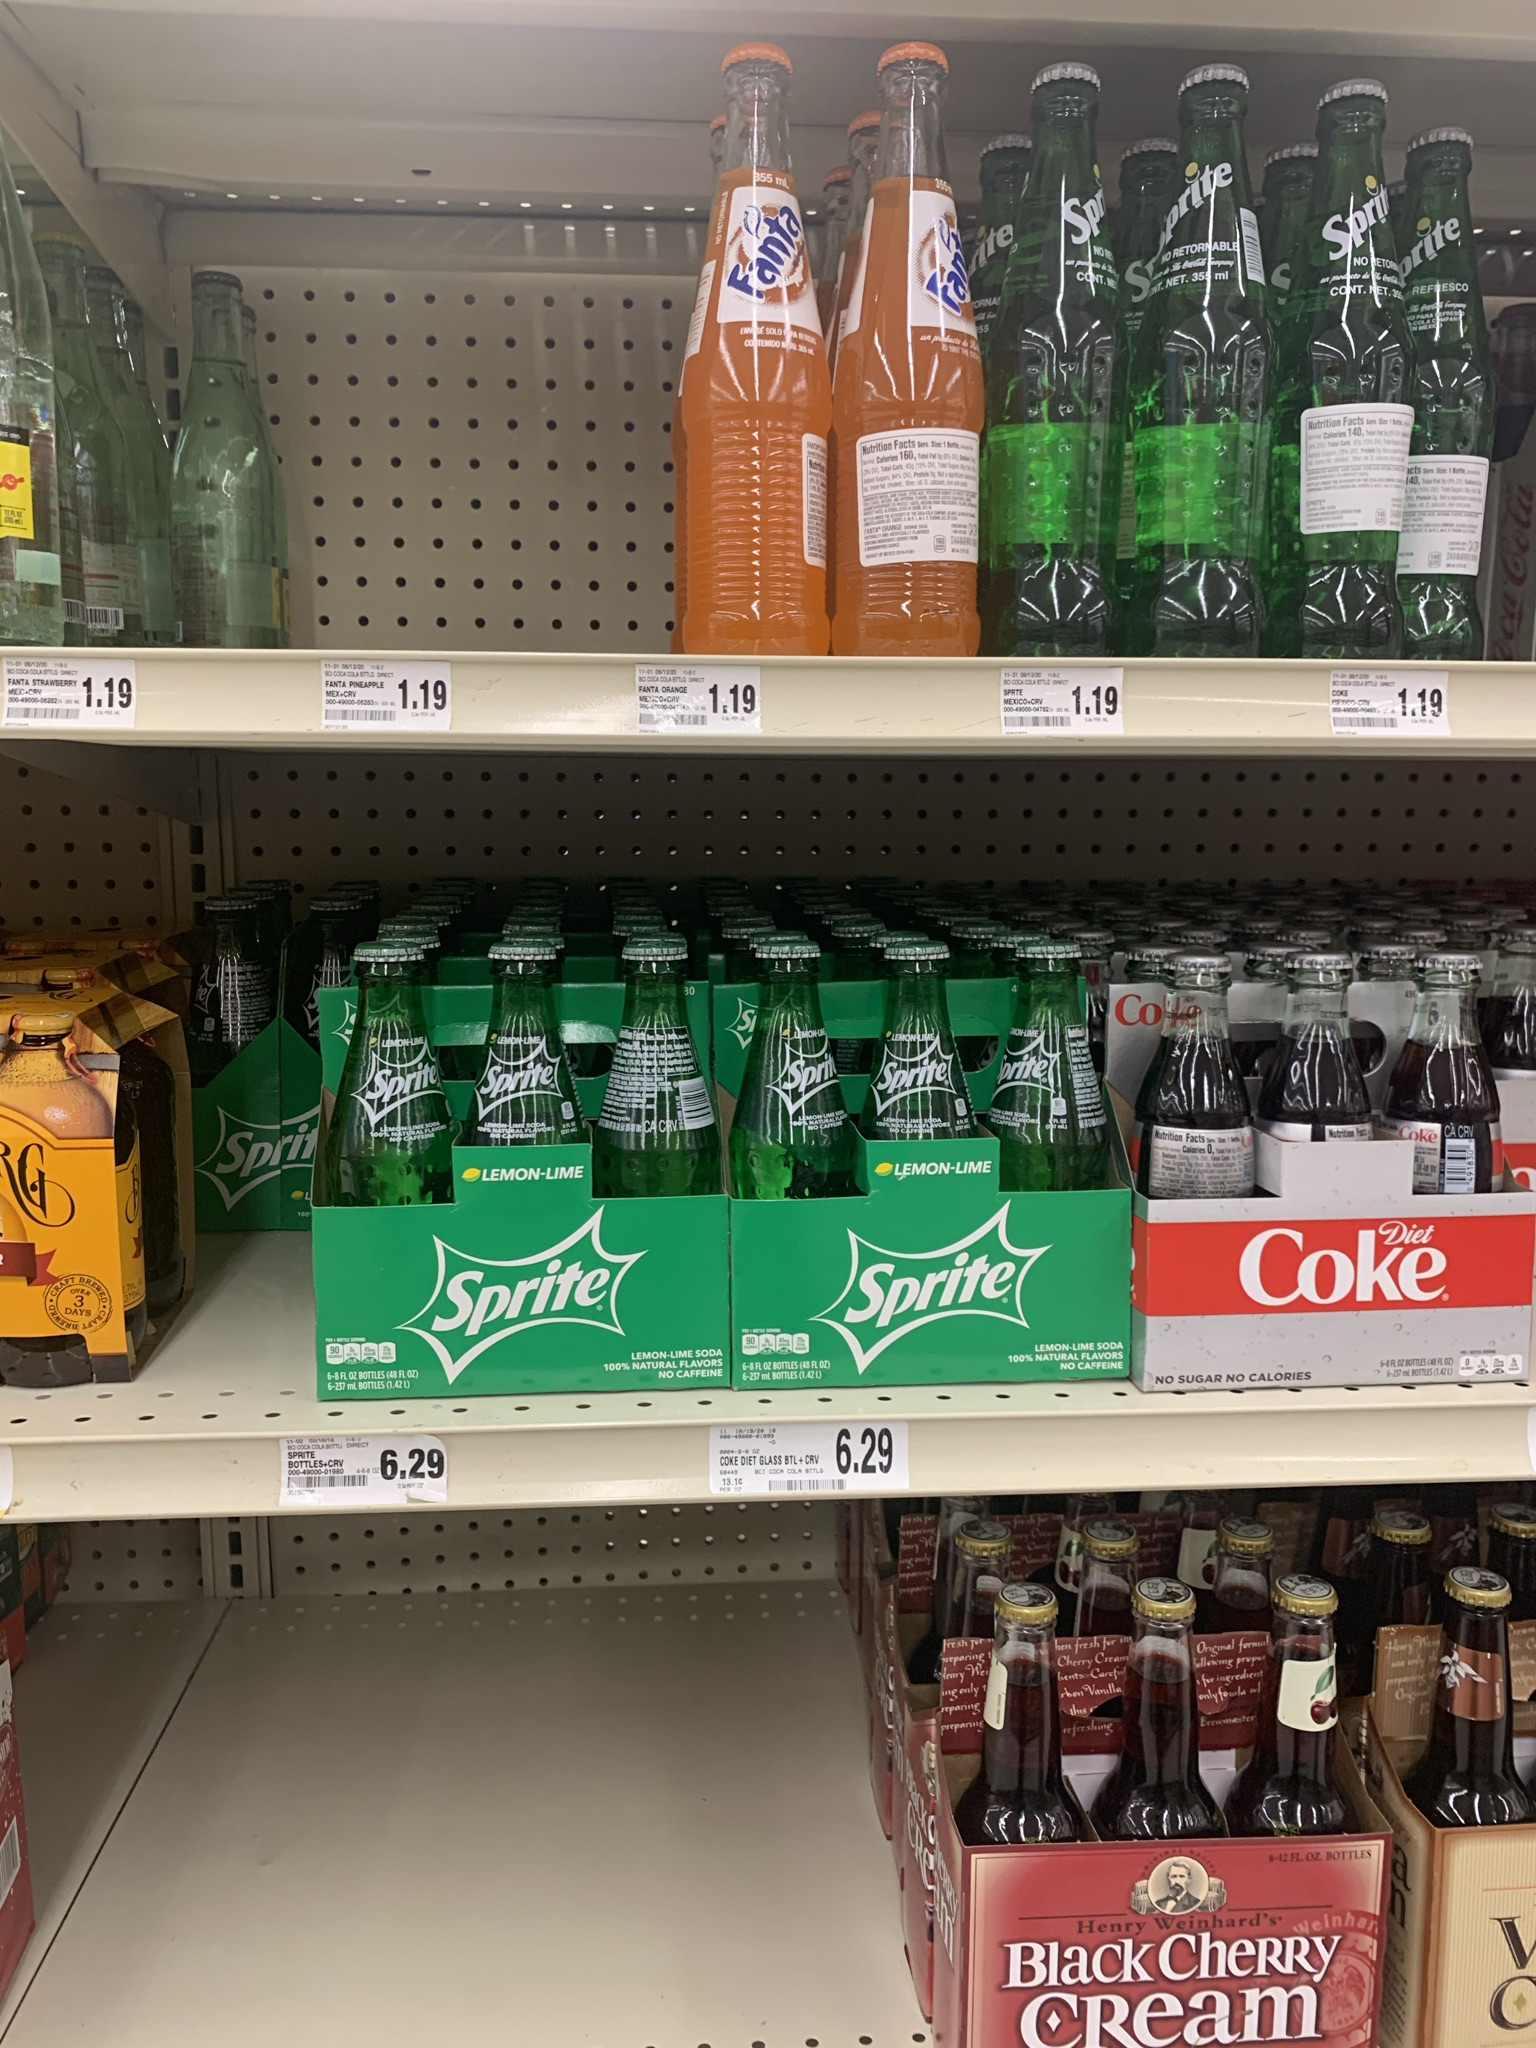Soda: (962, 1592, 1381, 2048), (311, 943, 729, 1397), (729, 930, 1134, 1377), (1144, 951, 1536, 1393), (826, 39, 983, 656), (674, 40, 829, 655), (1128, 61, 1273, 656), (1275, 71, 1407, 660), (992, 56, 1120, 655), (173, 256, 281, 650)
